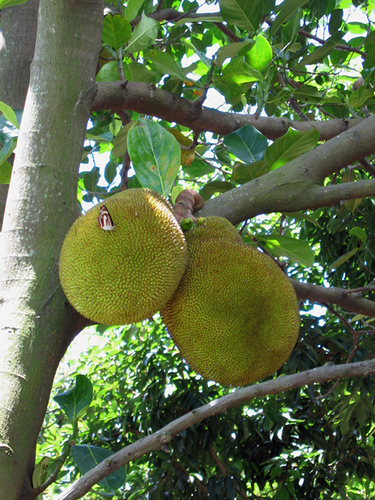jackfruit: (56, 186, 298, 387)
